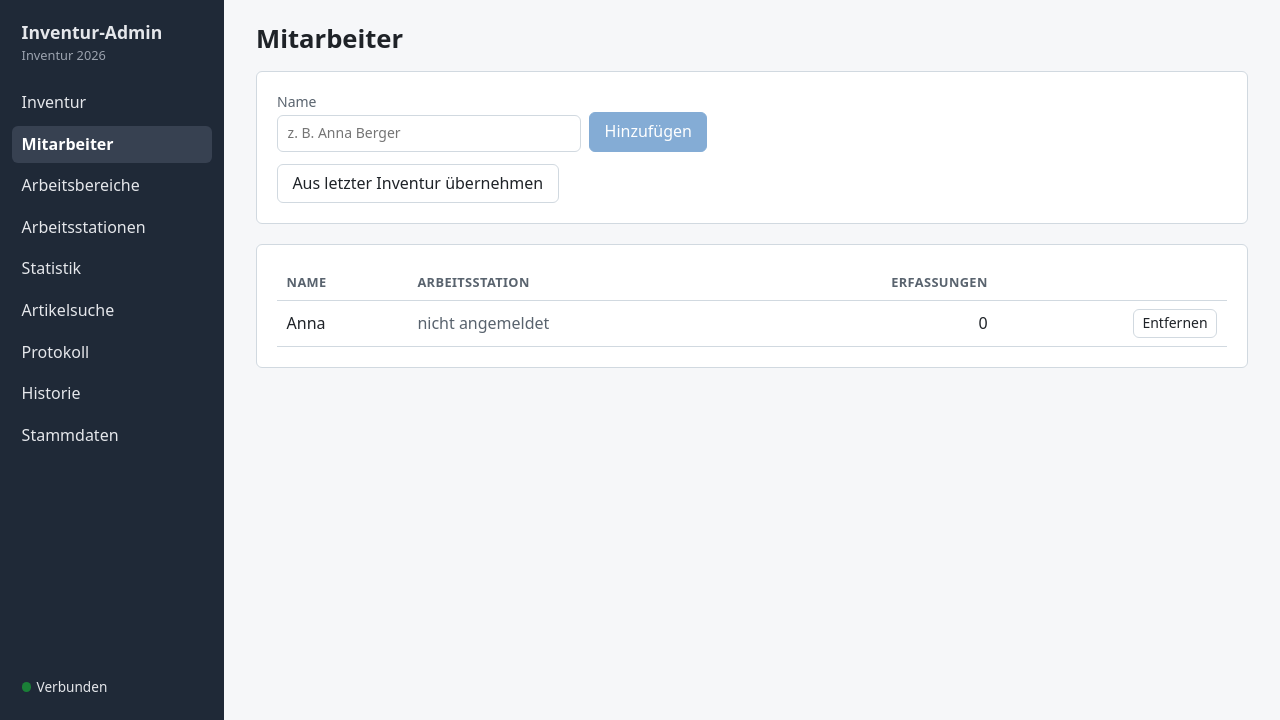
Test: employees page › removes an employee after confirmation
The width and height of the screenshot is (1280, 720).
What coordinates should you click on to do the following:
click the button "Entfernen"
I would click on:
 (1175, 323)
Its box is 1133,309 -> 1217,338.
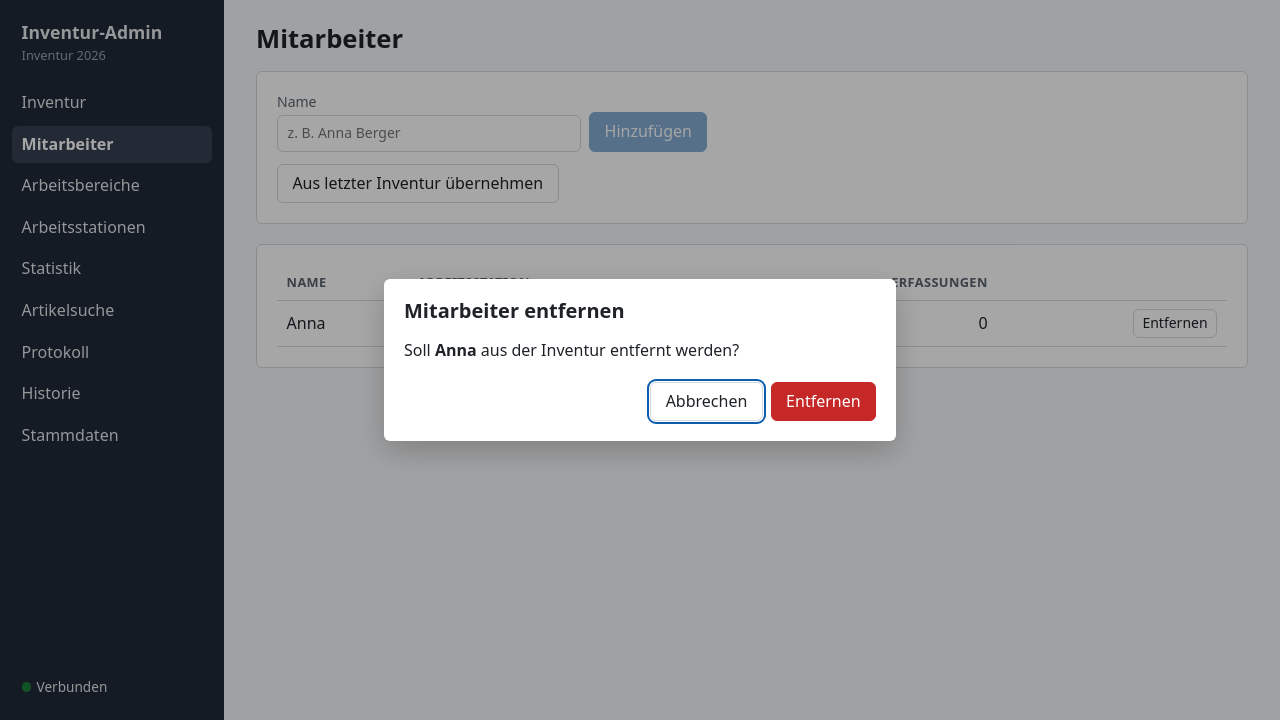
What coordinates should you click on to do the following:
click the button "Entfernen"
I would click on:
 (823, 402)
Its box is 771,382 -> 876,421.
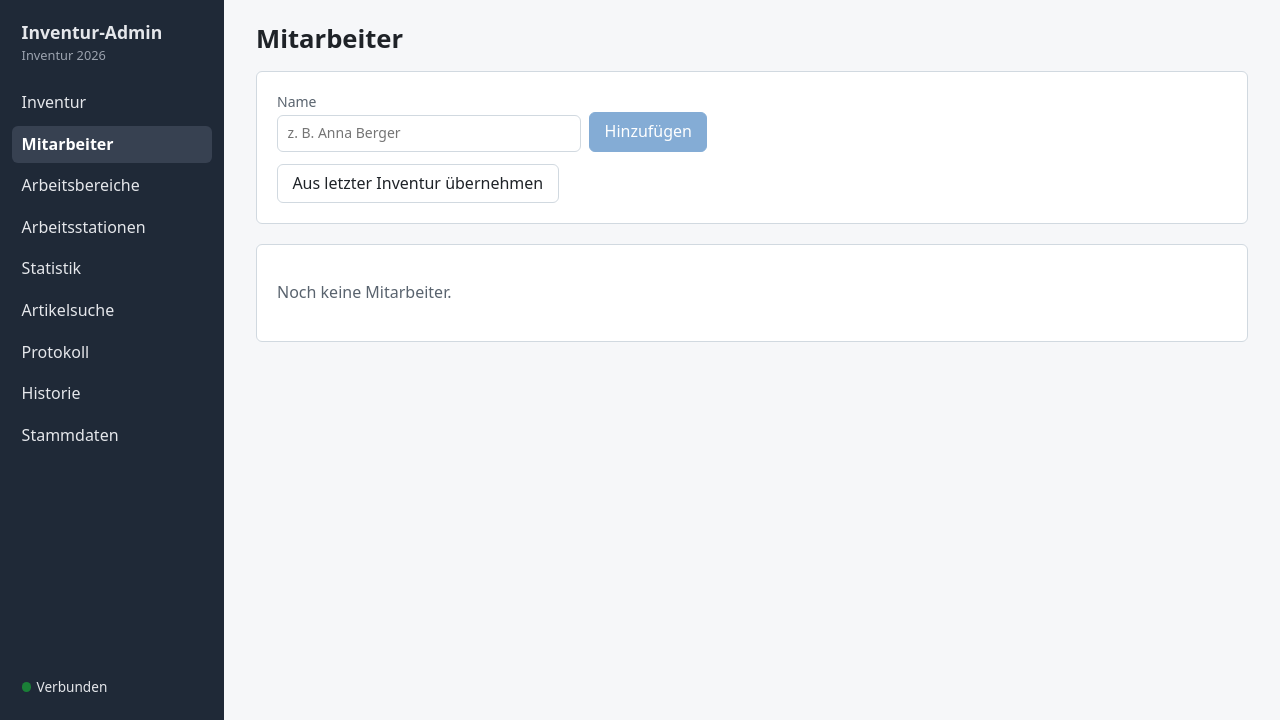
Expected: the text "Noch keine Mitarbeiter." is shown, 277,281 -> 452,303
